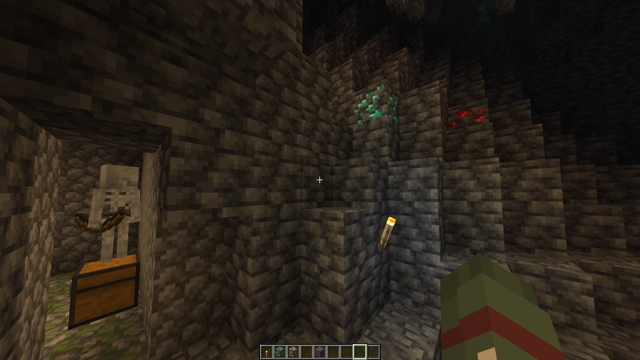diamond: (352, 84, 400, 126)
redstone: (443, 100, 491, 131)
